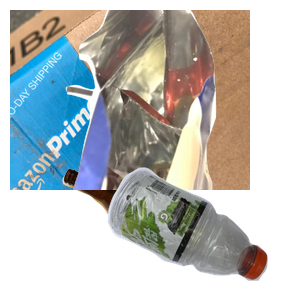cardboard: (10, 10, 250, 190)
glass: (60, 166, 241, 300)
plastic: (105, 165, 300, 300)
trash: (63, 10, 300, 190)
